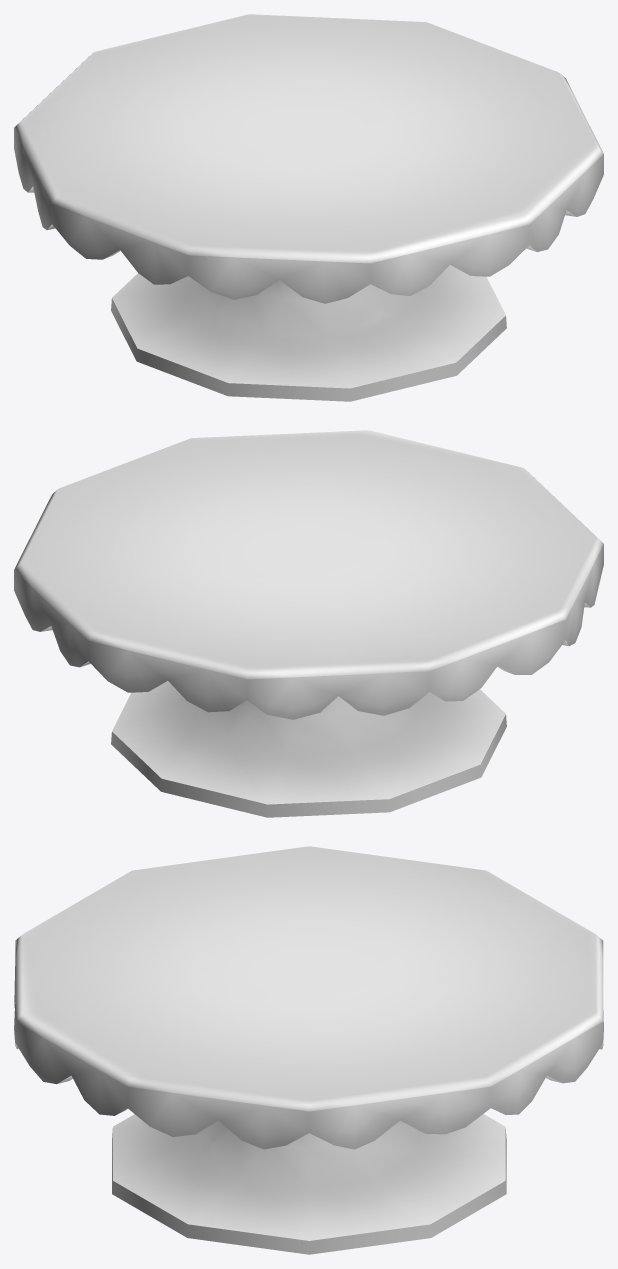
The model's file is Scalloped_Display_Small.fbx.
The picture shows the model from 3 angles, top to bottom: view 1: azimuth 30°, elevation 25°; view 2: azimuth 150°, elevation 25°; view 3: azimuth 270°, elevation 25°; orthographic projection. The views are drawn at different scales.
Visible parts, largest first — view 1: Scalloped_Display_Small; view 2: Scalloped_Display_Small; view 3: Scalloped_Display_Small.
Part boxes in pixels (<box>): Scalloped_Display_Small: <box>14,14,603,401</box>; Scalloped_Display_Small: <box>14,430,603,817</box>; Scalloped_Display_Small: <box>14,846,603,1254</box>.
Size of the model in its own units: 58.8 by 20.31 by 56.12.
